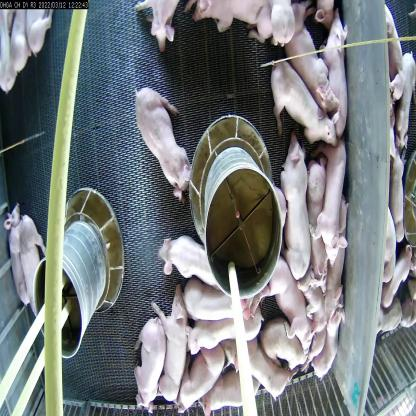Pig: (264, 53, 343, 177), (275, 1, 336, 118), (131, 90, 186, 207), (182, 0, 295, 55), (122, 302, 168, 416), (309, 15, 352, 132), (181, 274, 257, 338), (153, 294, 192, 411), (179, 334, 226, 416), (128, 0, 182, 67), (22, 219, 58, 318), (276, 150, 304, 274), (161, 228, 212, 296), (295, 148, 325, 262), (326, 138, 350, 280), (274, 242, 316, 318), (205, 369, 266, 415), (182, 309, 266, 339), (8, 215, 29, 318), (266, 342, 307, 384)
